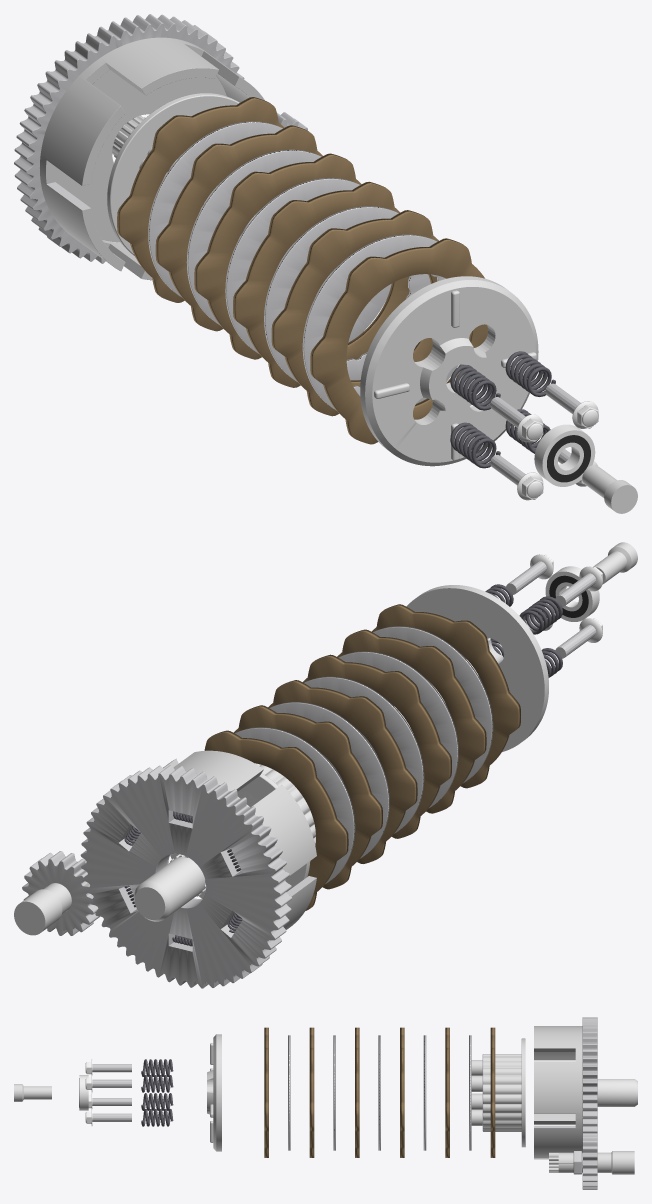
Rendered from clutch_exploded.glb.
3 views of the same model, one above another, from view 1: azimuth 30°, elevation 25°; view 2: azimuth 150°, elevation 25°; view 3: azimuth 270°, elevation 25° (orthographic). The views are drawn at different scales.
Visible parts, largest first — view 1: clutch_exploded__friction_plates, clutch_exploded__basket, clutch_exploded__pressure_plate, clutch_exploded__steel_plates, clutch_exploded__springs, clutch_exploded__hub, clutch_exploded__spring_bolts, clutch_exploded__release_bearing, clutch_exploded__lifter; view 2: clutch_exploded__basket, clutch_exploded__friction_plates, clutch_exploded__steel_plates, clutch_exploded__pressure_plate, clutch_exploded__primary_gear, clutch_exploded__mainshaft, clutch_exploded__spring_bolts, clutch_exploded__crank_stub, clutch_exploded__springs, clutch_exploded__hub, clutch_exploded__release_bearing, clutch_exploded__lifter (+1 smaller); view 3: clutch_exploded__basket, clutch_exploded__friction_plates, clutch_exploded__hub, clutch_exploded__springs, clutch_exploded__steel_plates, clutch_exploded__spring_bolts, clutch_exploded__crank_stub, clutch_exploded__pressure_plate, clutch_exploded__mainshaft, clutch_exploded__primary_gear, clutch_exploded__lifter, clutch_exploded__release_bearing.
Part boxes in pixels (x1,y1,x2,y2): clutch_exploded__friction_plates: [117, 97, 488, 444]; clutch_exploded__basket: [14, 14, 264, 280]; clutch_exploded__pressure_plate: [360, 276, 538, 466]; clutch_exploded__steel_plates: [148, 121, 469, 410]; clutch_exploded__springs: [450, 351, 555, 468]; clutch_exploded__hub: [107, 93, 259, 255]; clutch_exploded__spring_bolts: [490, 383, 598, 500]; clutch_exploded__release_bearing: [534, 424, 595, 486]; clutch_exploded__lifter: [582, 465, 637, 513]; clutch_exploded__basket: [80, 750, 316, 988]; clutch_exploded__friction_plates: [204, 604, 520, 910]; clutch_exploded__steel_plates: [235, 626, 493, 884]; clutch_exploded__pressure_plate: [406, 585, 548, 751]; clutch_exploded__primary_gear: [22, 851, 99, 935]; clutch_exploded__mainshaft: [134, 854, 205, 921]; clutch_exploded__spring_bolts: [506, 554, 602, 658]; clutch_exploded__crank_stub: [14, 860, 86, 935]; clutch_exploded__springs: [485, 584, 562, 677]; clutch_exploded__hub: [170, 763, 315, 898]; clutch_exploded__release_bearing: [545, 566, 599, 621]; clutch_exploded__lifter: [593, 542, 637, 584]; clutch_exploded__basket: [534, 1017, 597, 1159]; clutch_exploded__friction_plates: [264, 1027, 495, 1157]; clutch_exploded__hub: [471, 1038, 525, 1147]; clutch_exploded__springs: [141, 1059, 173, 1126]; clutch_exploded__steel_plates: [288, 1035, 471, 1150]; clutch_exploded__spring_bolts: [85, 1059, 131, 1125]; clutch_exploded__crank_stub: [549, 1151, 634, 1174]; clutch_exploded__pressure_plate: [207, 1034, 221, 1151]; clutch_exploded__mainshaft: [597, 1079, 637, 1106]; clutch_exploded__primary_gear: [582, 1135, 597, 1189]; clutch_exploded__lifter: [14, 1084, 51, 1101]; clutch_exploded__release_bearing: [79, 1075, 88, 1110].
Bounding box in the file's own units: 11.89 × 9.2 × 37.8.
